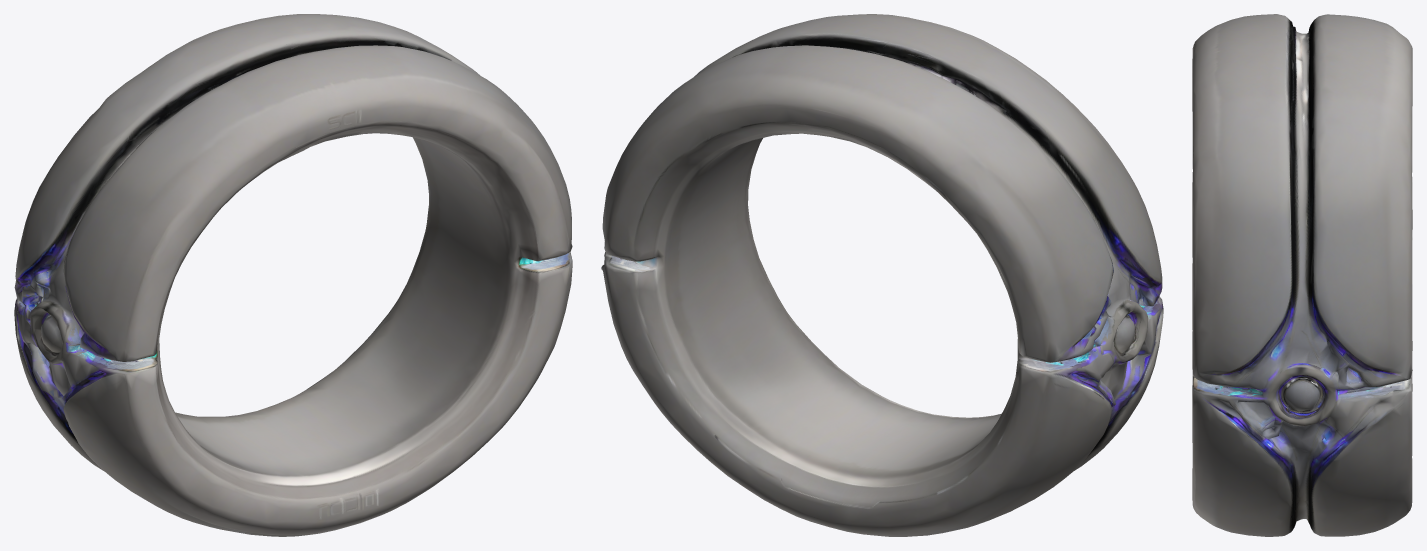
Rendered from genesis_gate.fbx.
3 views of the same model, side by side, from view 1: azimuth 30°, elevation 25°; view 2: azimuth 150°, elevation 25°; view 3: azimuth 270°, elevation 25° (orthographic).
Parts seen in each view (by area): view 1: input; view 2: input; view 3: input.
Part boxes in pixels (x1,y1,x2,y2): input: (14, 14, 572, 536); input: (601, 14, 1163, 536); input: (1192, 14, 1412, 536).
Bounding box in the file's own units: 200 × 176 × 76.27.
1 material, 1 textured.
